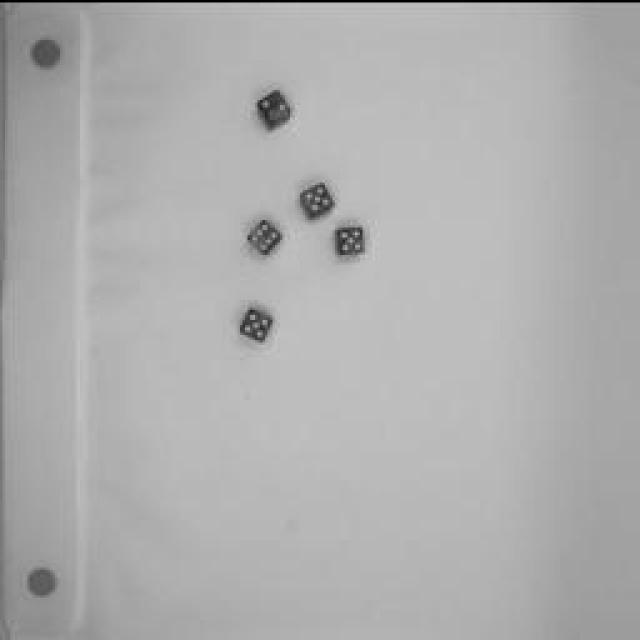dice_2: (252, 84, 298, 131)
dice_5: (235, 300, 280, 345), (298, 176, 338, 222), (332, 222, 370, 256)
dice_6: (245, 215, 285, 257)
